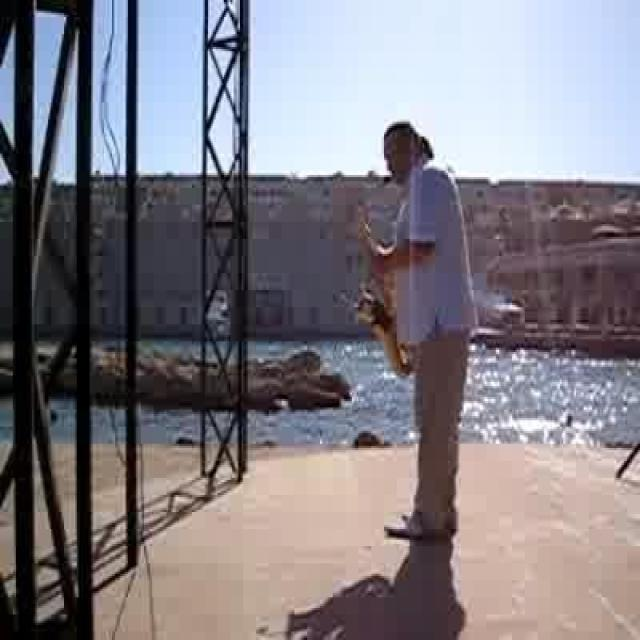saxophone: (348, 196, 420, 377)
